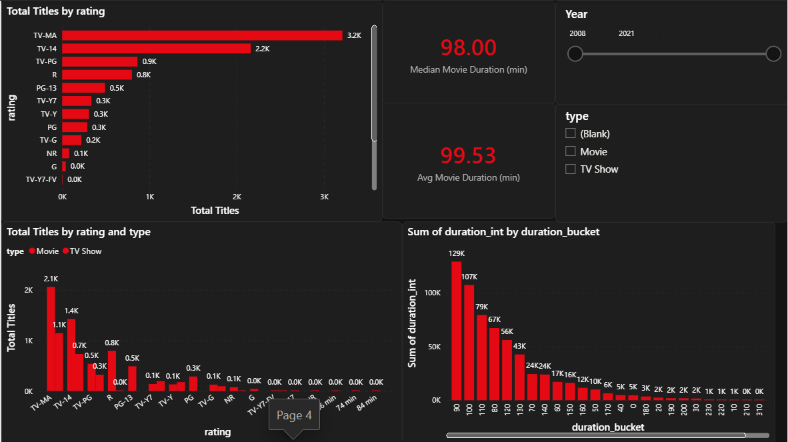

The dashboard page shown, as its layout file describes it:
{"tool":"powerbi","page":{"name":"Page 4","canvas":[1280,720],"ordinal":3},"visuals":[{"type":"barChart","fields":{"Category":["Fact_Titles.rating"],"Y":["Fact_Titles.Total Titles"]},"box":[0,0,620.1,360.1],"z":0},{"type":"clusteredColumnChart","fields":{"Category":["Fact_Titles.rating"],"Y":["Fact_Titles.Total Titles"],"Series":["Fact_Titles.type"]},"box":[0,359.5,652.2,361.1],"z":1},{"type":"clusteredColumnChart","fields":{"Category":["Fact_Titles.duration_bucket"],"Y":["Sum(Fact_Titles.duration_int)"]},"box":[652.2,359.5,606.7,361.1],"z":2},{"type":"card","fields":{"Values":["Fact_Titles.Median Movie Duration (min)"]},"box":[620.1,0,281.2,169.5],"z":3},{"type":"card","fields":{"Values":["Fact_Titles.Avg Movie Duration (min)"]},"box":[620.1,165.6,281.2,188.7],"z":4},{"type":"slicer","fields":{"Values":["Fact_Titles.type"]},"box":[901.3,165.6,379.4,194.5],"z":5},{"type":"slicer","fields":{"Values":["Dim_Date.Year"]},"box":[901.3,0,379.4,169.5],"z":6}]}

Visuals, with their boxes in screenshot pixels (x1, y1, x2, y2), scaled from the page's 1280x720 canvas onto the 788x442 screenshot:
barChart - Fact_Titles.rating x Fact_Titles.Total Titles: Rect(0, 0, 382, 221)
clusteredColumnChart - Fact_Titles.rating x Fact_Titles.Total Titles: Rect(0, 221, 402, 441)
clusteredColumnChart - Fact_Titles.duration_bucket x Sum(Fact_Titles.duration_int): Rect(402, 221, 775, 441)
card - Fact_Titles.Median Movie Duration (min): Rect(382, 0, 555, 104)
card - Fact_Titles.Avg Movie Duration (min): Rect(382, 102, 555, 218)
slicer - Fact_Titles.type: Rect(555, 102, 787, 221)
slicer - Dim_Date.Year: Rect(555, 0, 787, 104)
